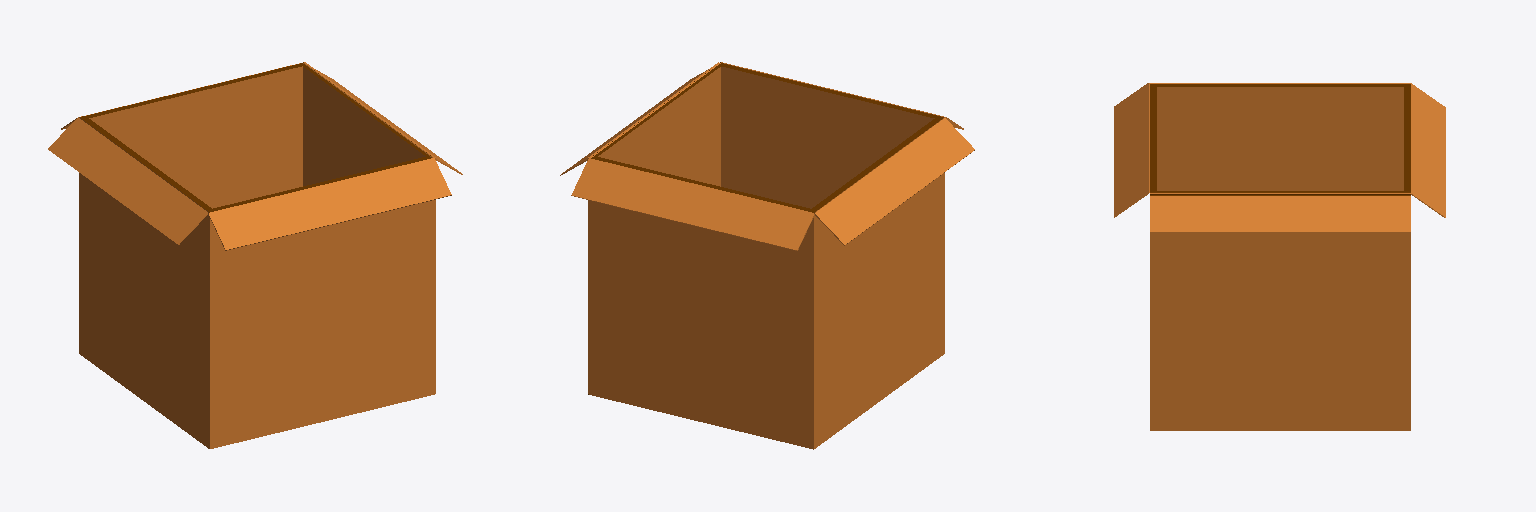
3 views of the same model, side by side, from view 1: azimuth 30°, elevation 25°; view 2: azimuth 150°, elevation 25°; view 3: azimuth 270°, elevation 25° (orthographic).
Parts seen in each view (by area): view 1: Cube_Cube.037; view 2: Cube_Cube.037; view 3: Cube_Cube.037.
Boxes of the visible parts, x1,y1,x2,y2 form: Cube_Cube.037: [48, 62, 462, 448]; Cube_Cube.037: [560, 62, 974, 449]; Cube_Cube.037: [1114, 83, 1445, 430].
Bounding box in the file's own units: 6.97 × 5.54 × 7.02.
Materials: 1 (1 with a texture image).